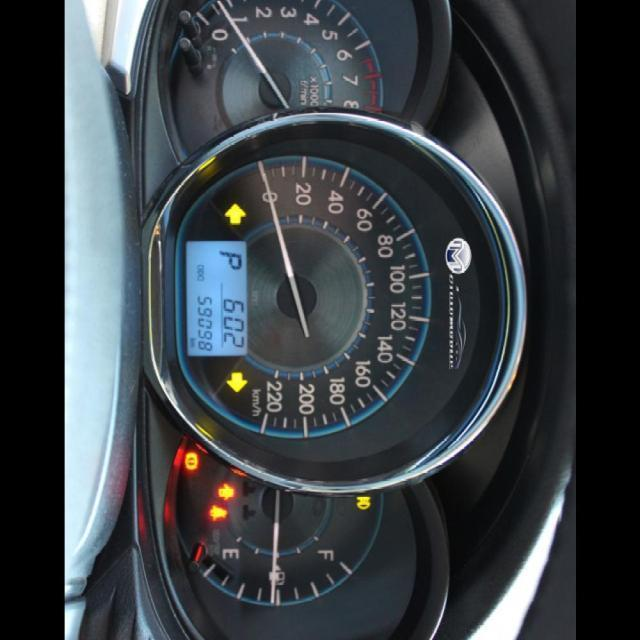Seat Belt: (208, 505, 228, 521)
